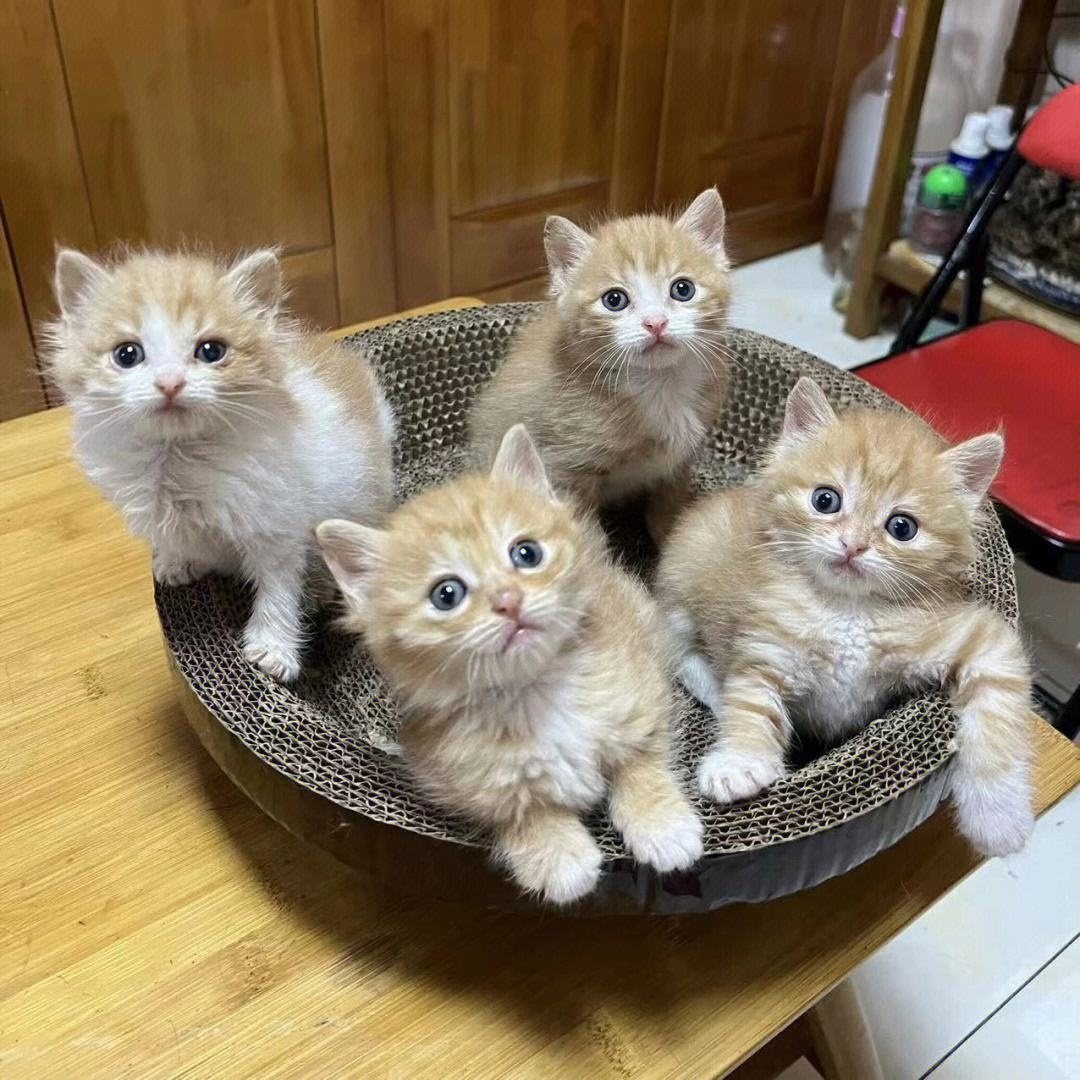cat: (315, 423, 708, 906), (651, 375, 1035, 860), (35, 242, 397, 685), (463, 186, 736, 558)
